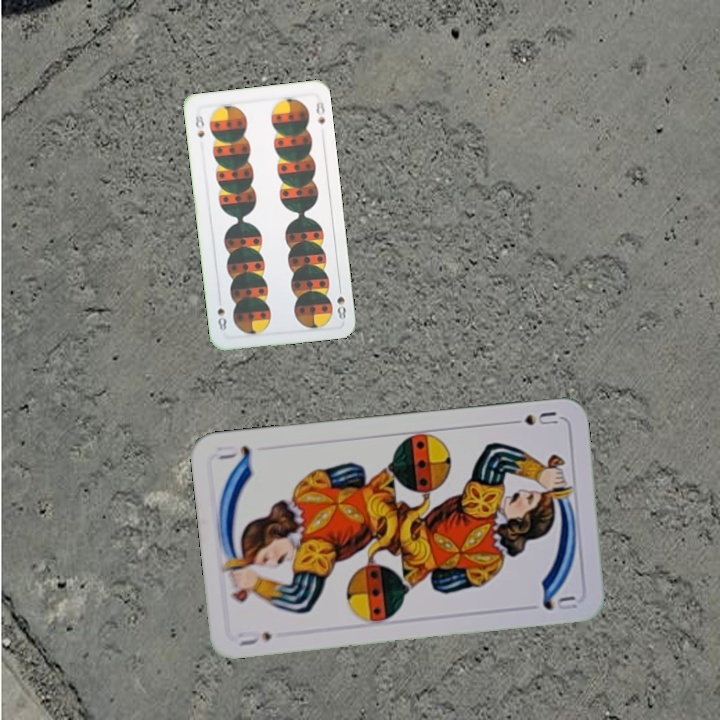S8: (333, 281, 349, 322), (191, 111, 207, 141)
SU: (503, 407, 560, 428), (234, 626, 275, 649)
